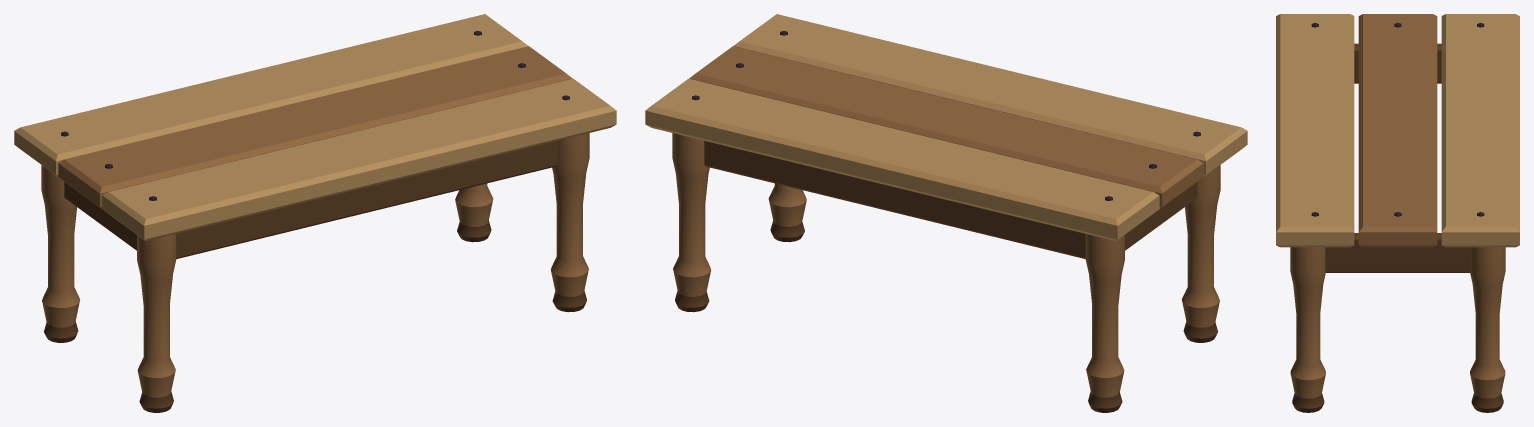
File: Table_04.glb
3 renders of one model, left to right at view 1: azimuth 30°, elevation 25°; view 2: azimuth 150°, elevation 25°; view 3: azimuth 270°, elevation 25°, orthographic. The views are drawn at different scales.
Parts seen in each view (by area): view 1: Table_04; view 2: Table_04; view 3: Table_04.
Boxes of the visible parts, x1=… form: Table_04: x1=14, y1=14, x2=616, y2=412; Table_04: x1=645, y1=14, x2=1247, y2=412; Table_04: x1=1276, y1=14, x2=1519, y2=412.
Bounding box in the file's own units: 7.14 × 2.99 × 3.4.
